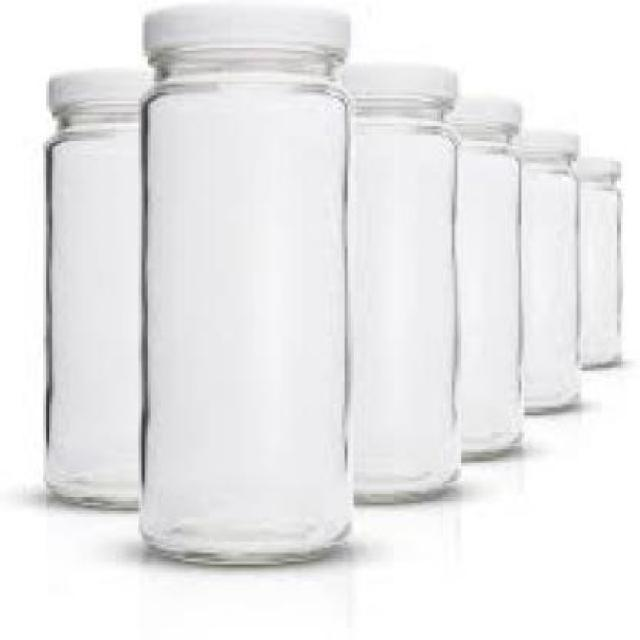kaca: (138, 42, 348, 564), (337, 95, 458, 500), (45, 108, 140, 509), (446, 124, 522, 458), (515, 152, 577, 411), (574, 180, 620, 365)
